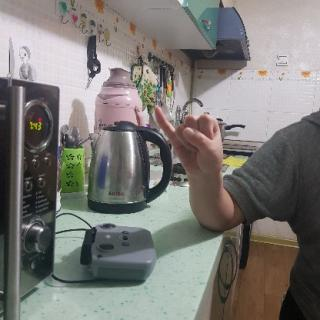MEEM: (150, 101, 231, 181)
